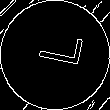L_W: (27, 35, 83, 75)
